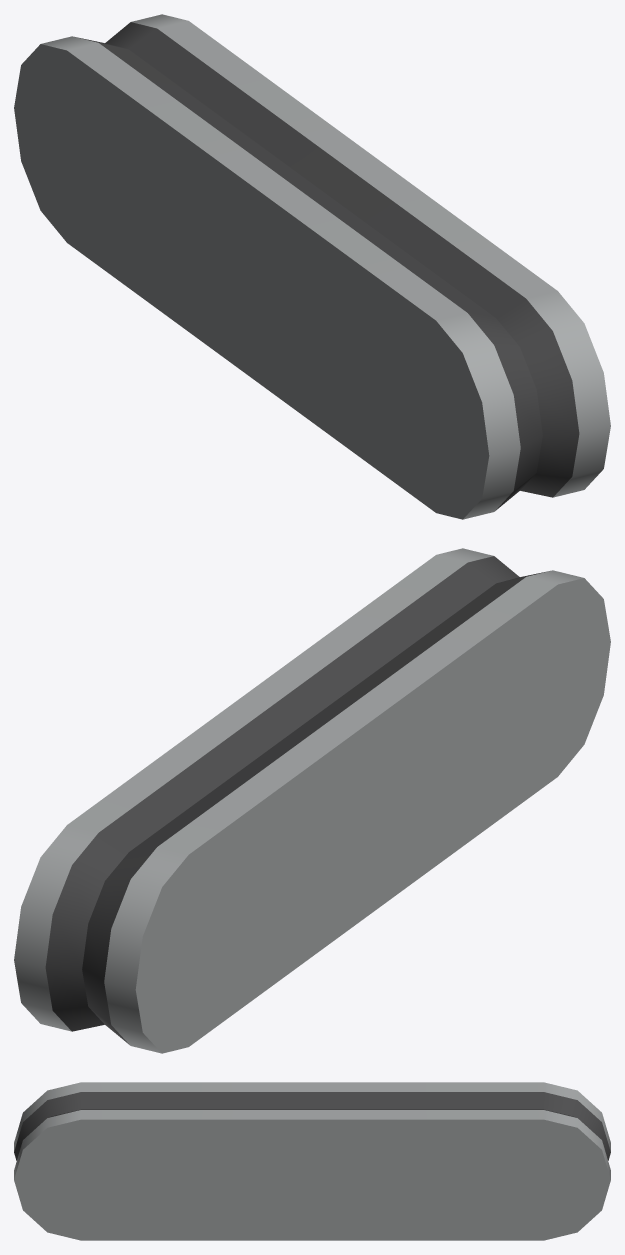
The model's file is Turret_002_Port_02.fbx.
The picture shows the model from 3 angles, top to bottom: view 1: azimuth 30°, elevation 25°; view 2: azimuth 150°, elevation 25°; view 3: azimuth 270°, elevation 25°; orthographic projection. The views are drawn at different scales.
Parts seen in each view (by area): view 1: Turret_002_Port_02; view 2: Turret_002_Port_02; view 3: Turret_002_Port_02.
Boxes of the visible parts, bbox=[...] form: Turret_002_Port_02: bbox=[14, 14, 610, 519]; Turret_002_Port_02: bbox=[14, 548, 610, 1053]; Turret_002_Port_02: bbox=[14, 1082, 610, 1240].
Size of the model in its own units: 14.88 by 101 by 22.47.
